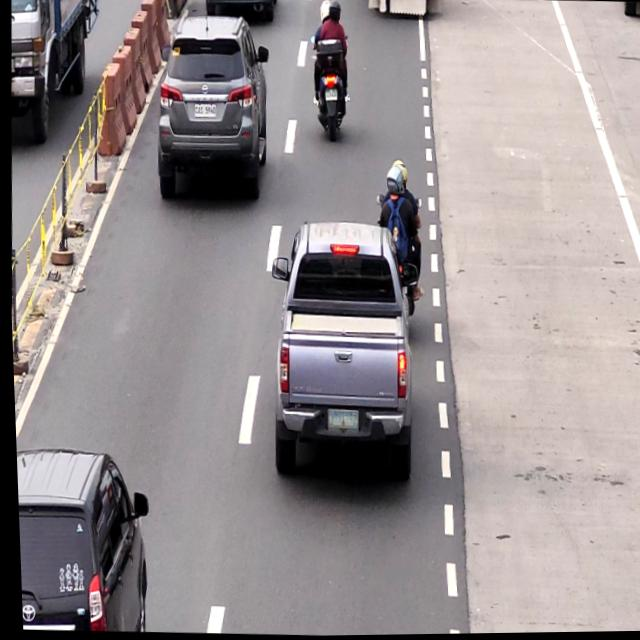Car: (260, 227, 407, 476), (13, 444, 151, 633), (151, 18, 267, 212)
License-Plate: (325, 407, 357, 431), (192, 104, 217, 121), (324, 88, 337, 103)
Motorcycle: (373, 166, 423, 314), (310, 0, 348, 142)
